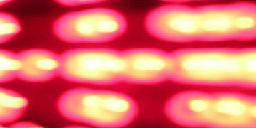LED: (65, 45, 256, 86), (161, 89, 256, 126), (50, 9, 133, 39)
